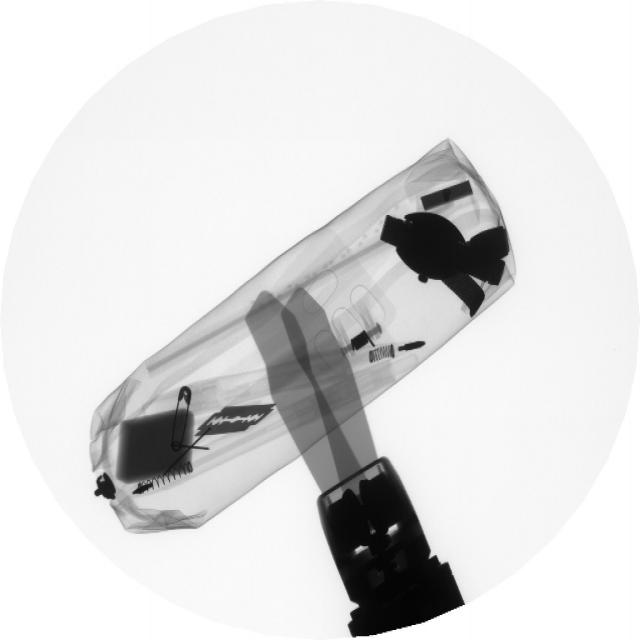BLADE: (188, 398, 282, 445)
